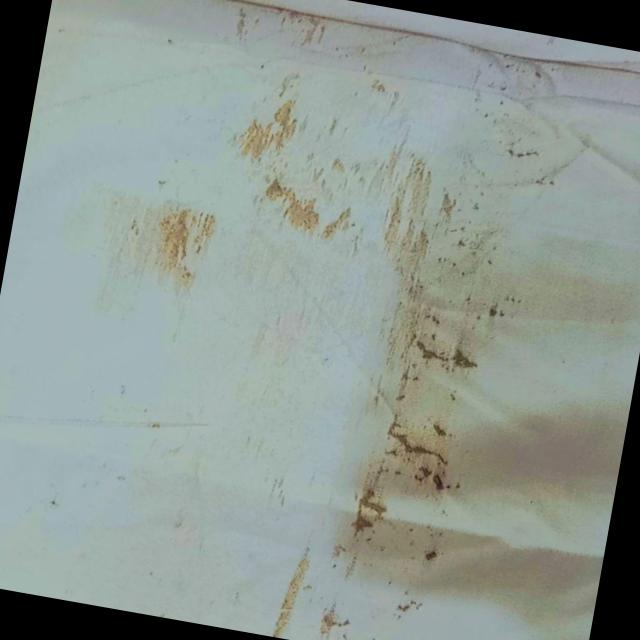stain: (56, 0, 596, 640)
